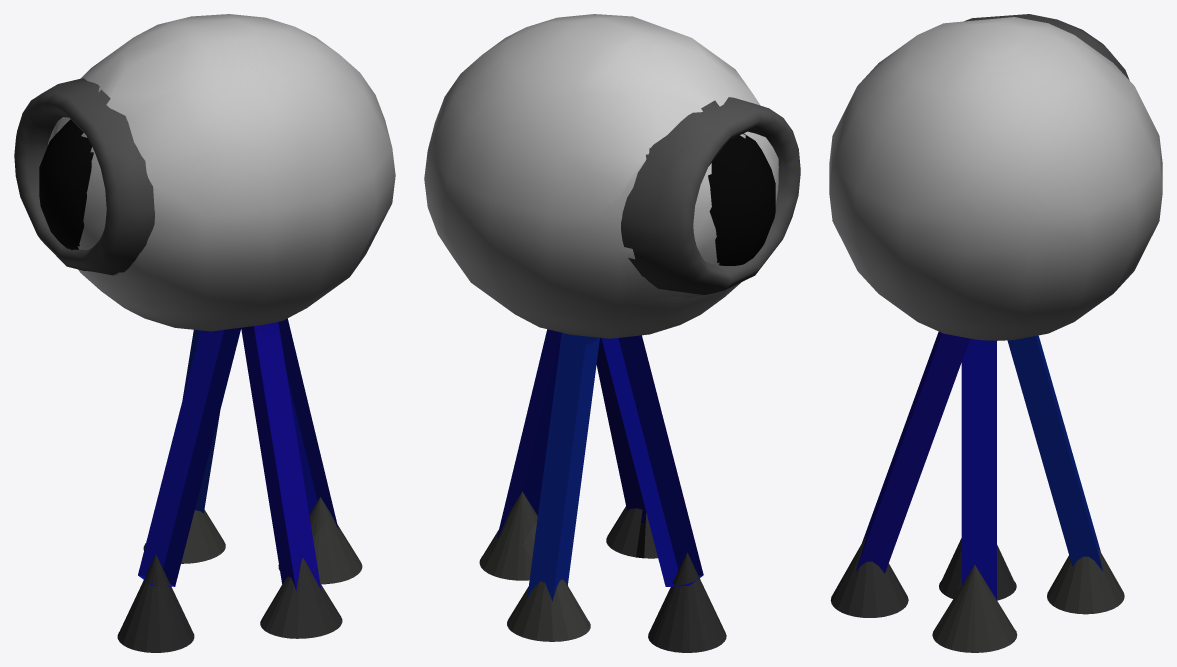
File: robot .dae
3 renders of one model, left to right at view 1: azimuth 30°, elevation 25°; view 2: azimuth 150°, elevation 25°; view 3: azimuth 270°, elevation 25°, orthographic. The views are drawn at different scales.
Parts seen in each view (by area): view 1: Cone_001; view 2: Cone_001; view 3: Cone_001.
Part boxes in pixels (box(x1,y1,x2,y2)): Cone_001: box(14, 14, 395, 652); Cone_001: box(424, 14, 800, 652); Cone_001: box(829, 14, 1162, 652).
Bounding box in the file's own units: 1.05 × 0.9416 × 1.82.
1 material, 1 textured.
